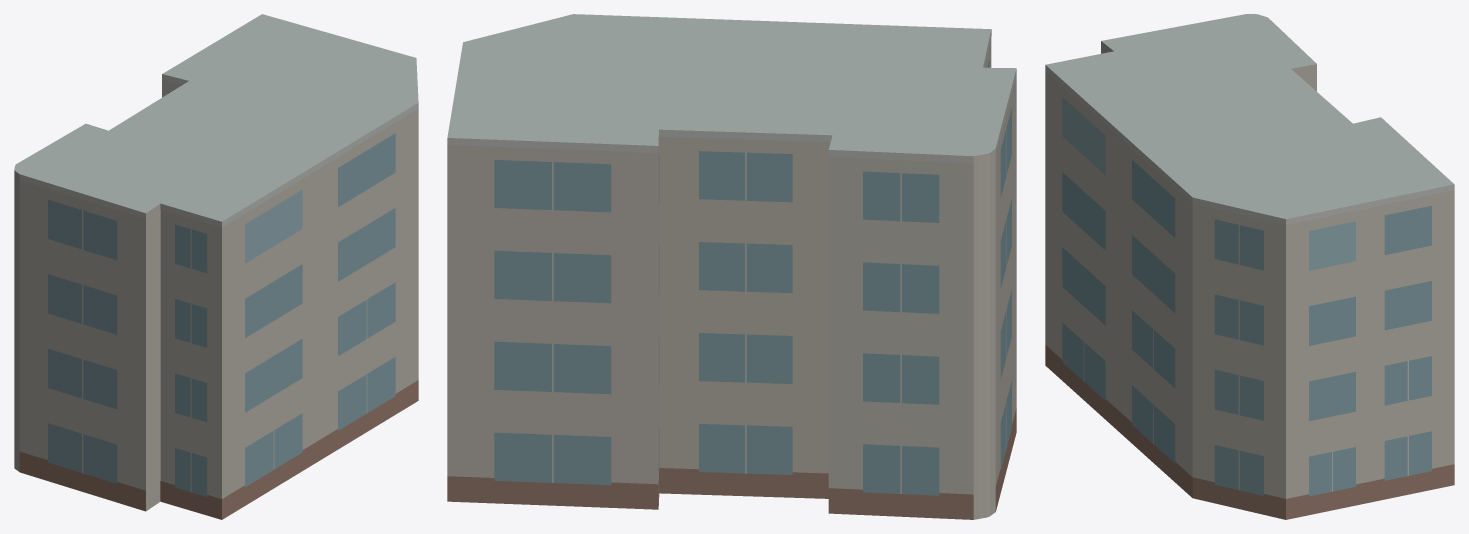
Rendered from survey-upis-32616921.glb.
3 renders of one model, left to right at view 1: azimuth 30°, elevation 25°; view 2: azimuth 150°, elevation 25°; view 3: azimuth 270°, elevation 25°, orthographic. The views are drawn at different scales.
Parts seen in each view (by area): view 1: survey-upis-32616921.tmp; view 2: survey-upis-32616921.tmp; view 3: survey-upis-32616921.tmp.
Boxes of the visible parts, box(x1,y1,x2,y2) form: survey-upis-32616921.tmp: box(14, 14, 418, 519); survey-upis-32616921.tmp: box(447, 14, 1016, 519); survey-upis-32616921.tmp: box(1045, 14, 1454, 519).
Bounding box in the file's own units: 18.3 × 12.5 × 15.43.
